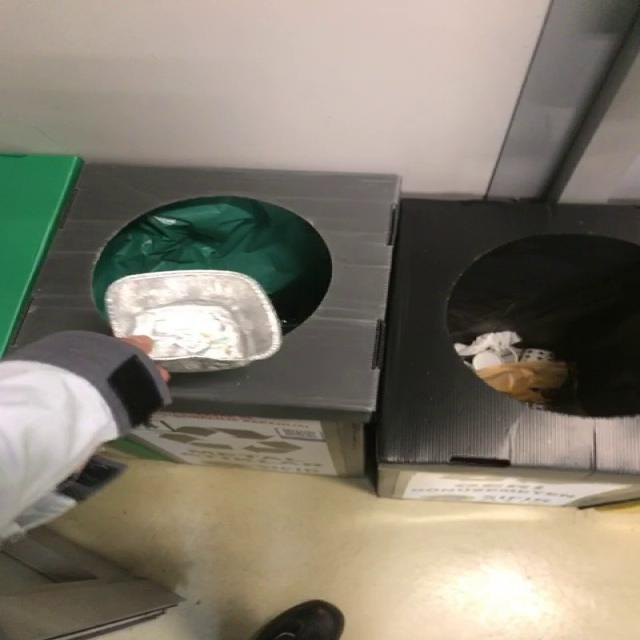metal: (104, 270, 281, 372)
